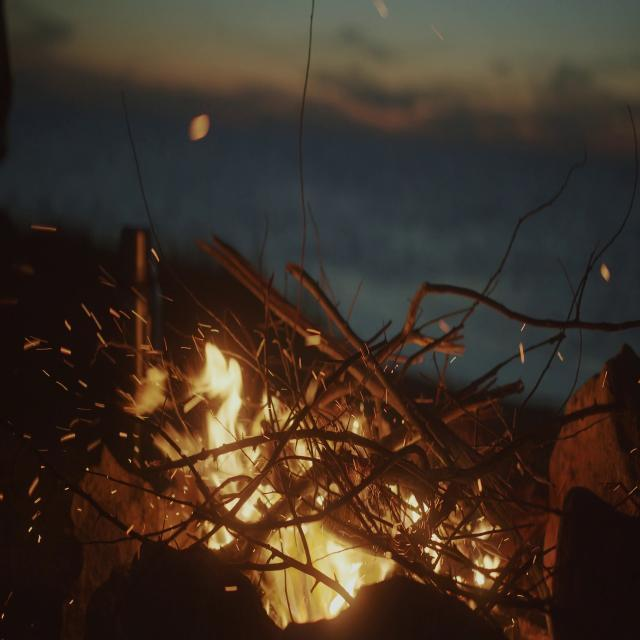Fire: (185, 330, 374, 624), (372, 465, 518, 621)
